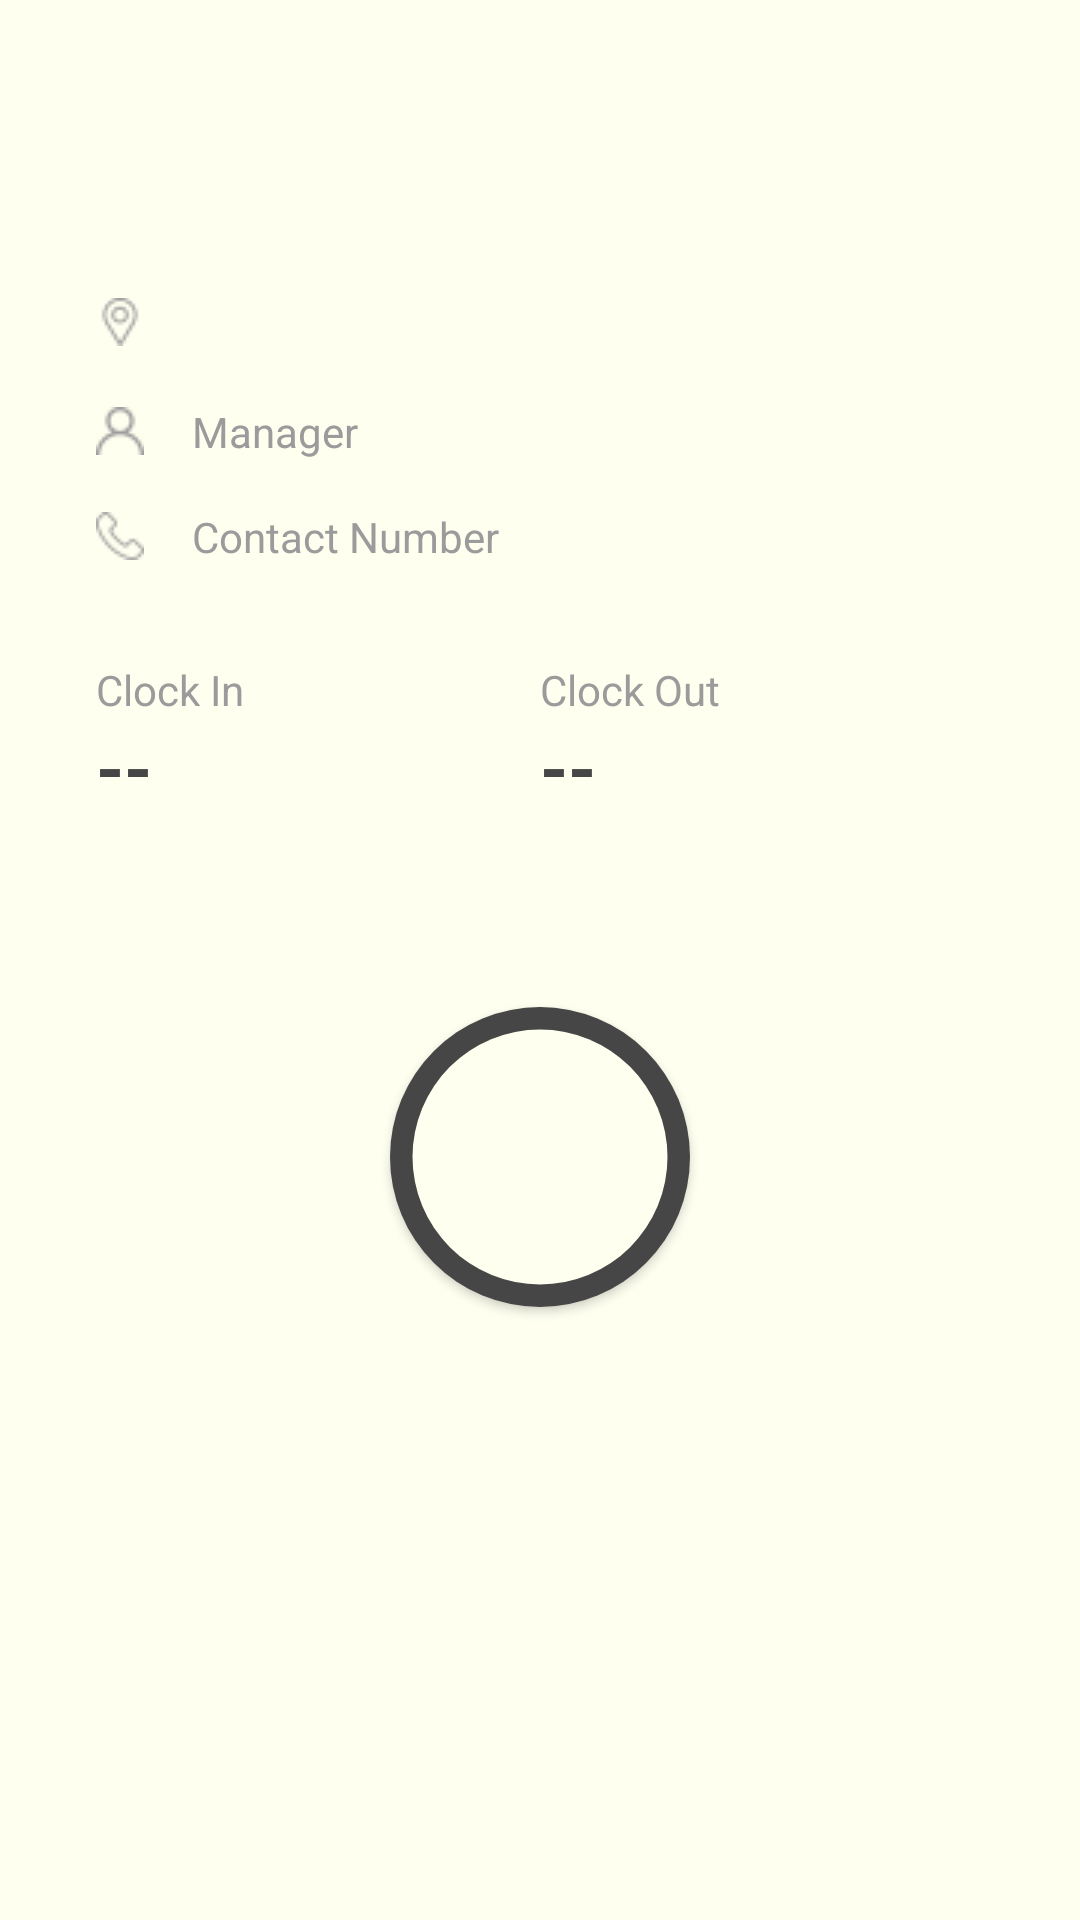

Icons on this 1080w x 1920h Android screen, each with the point to tap as (x,y):
location: (120,322)
